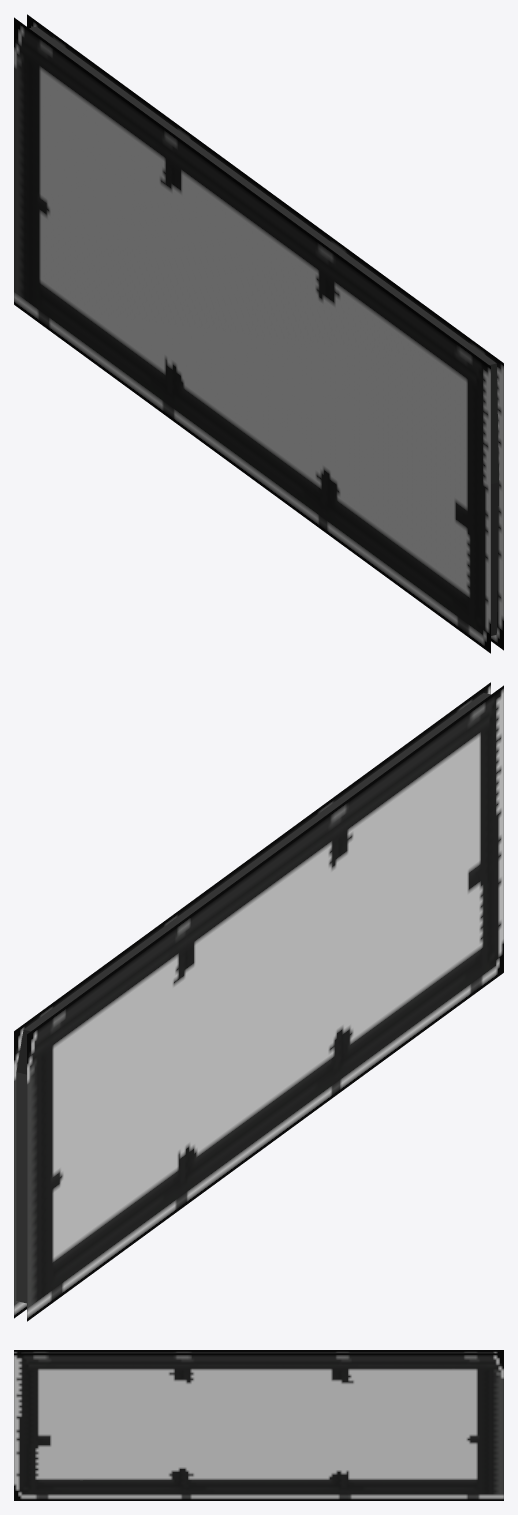
The model's file is pz_native_fixtures_windows_metal_108_frame.obj.
3 renders of one model, top to bottom at view 1: azimuth 30°, elevation 25°; view 2: azimuth 150°, elevation 25°; view 3: azimuth 270°, elevation 25°, orthographic. The views are drawn at different scales.
Parts seen in each view (by area): view 1: pz_native_fixtures_windows_metal_108_frame; view 2: pz_native_fixtures_windows_metal_108_frame; view 3: pz_native_fixtures_windows_metal_108_frame.
Boxes of the visible parts, <box> form: pz_native_fixtures_windows_metal_108_frame: <box>14,14,503,653</box>; pz_native_fixtures_windows_metal_108_frame: <box>14,682,503,1321</box>; pz_native_fixtures_windows_metal_108_frame: <box>14,1350,503,1500</box>.
Bounding box in the file's own units: 0.04 × 0.8438 × 2.54.
Materials: 1 (1 with a texture image).
